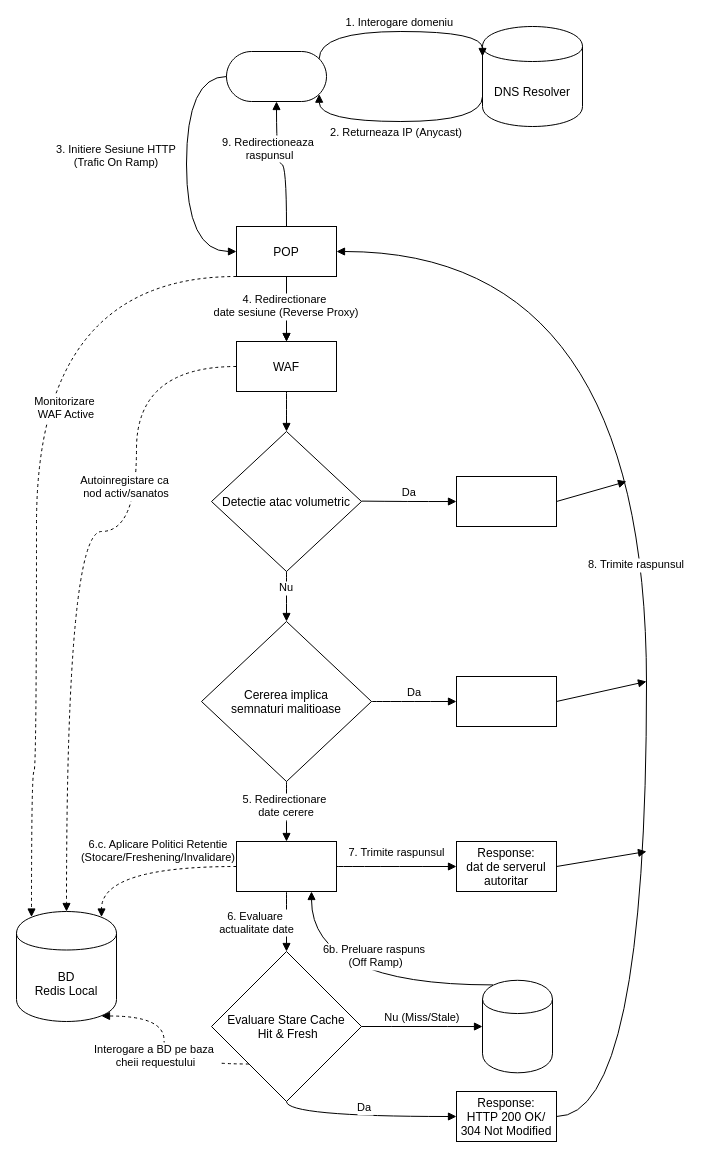
Some shapes in this 703 by 1158 pixel diagram are drawn without their labels. Here are the shapes that lost their labels. From the top down, the centre of each, then its label:
At point 276,76: "Client/ Atacator".
At point 506,501: "Response: HTTP 429 Too Many Requests".
At point 506,701: "Response: HTTP 403 Fordidden".
At point 286,866: "Manager CDN".
At point 517,1026: "Origin Server".
